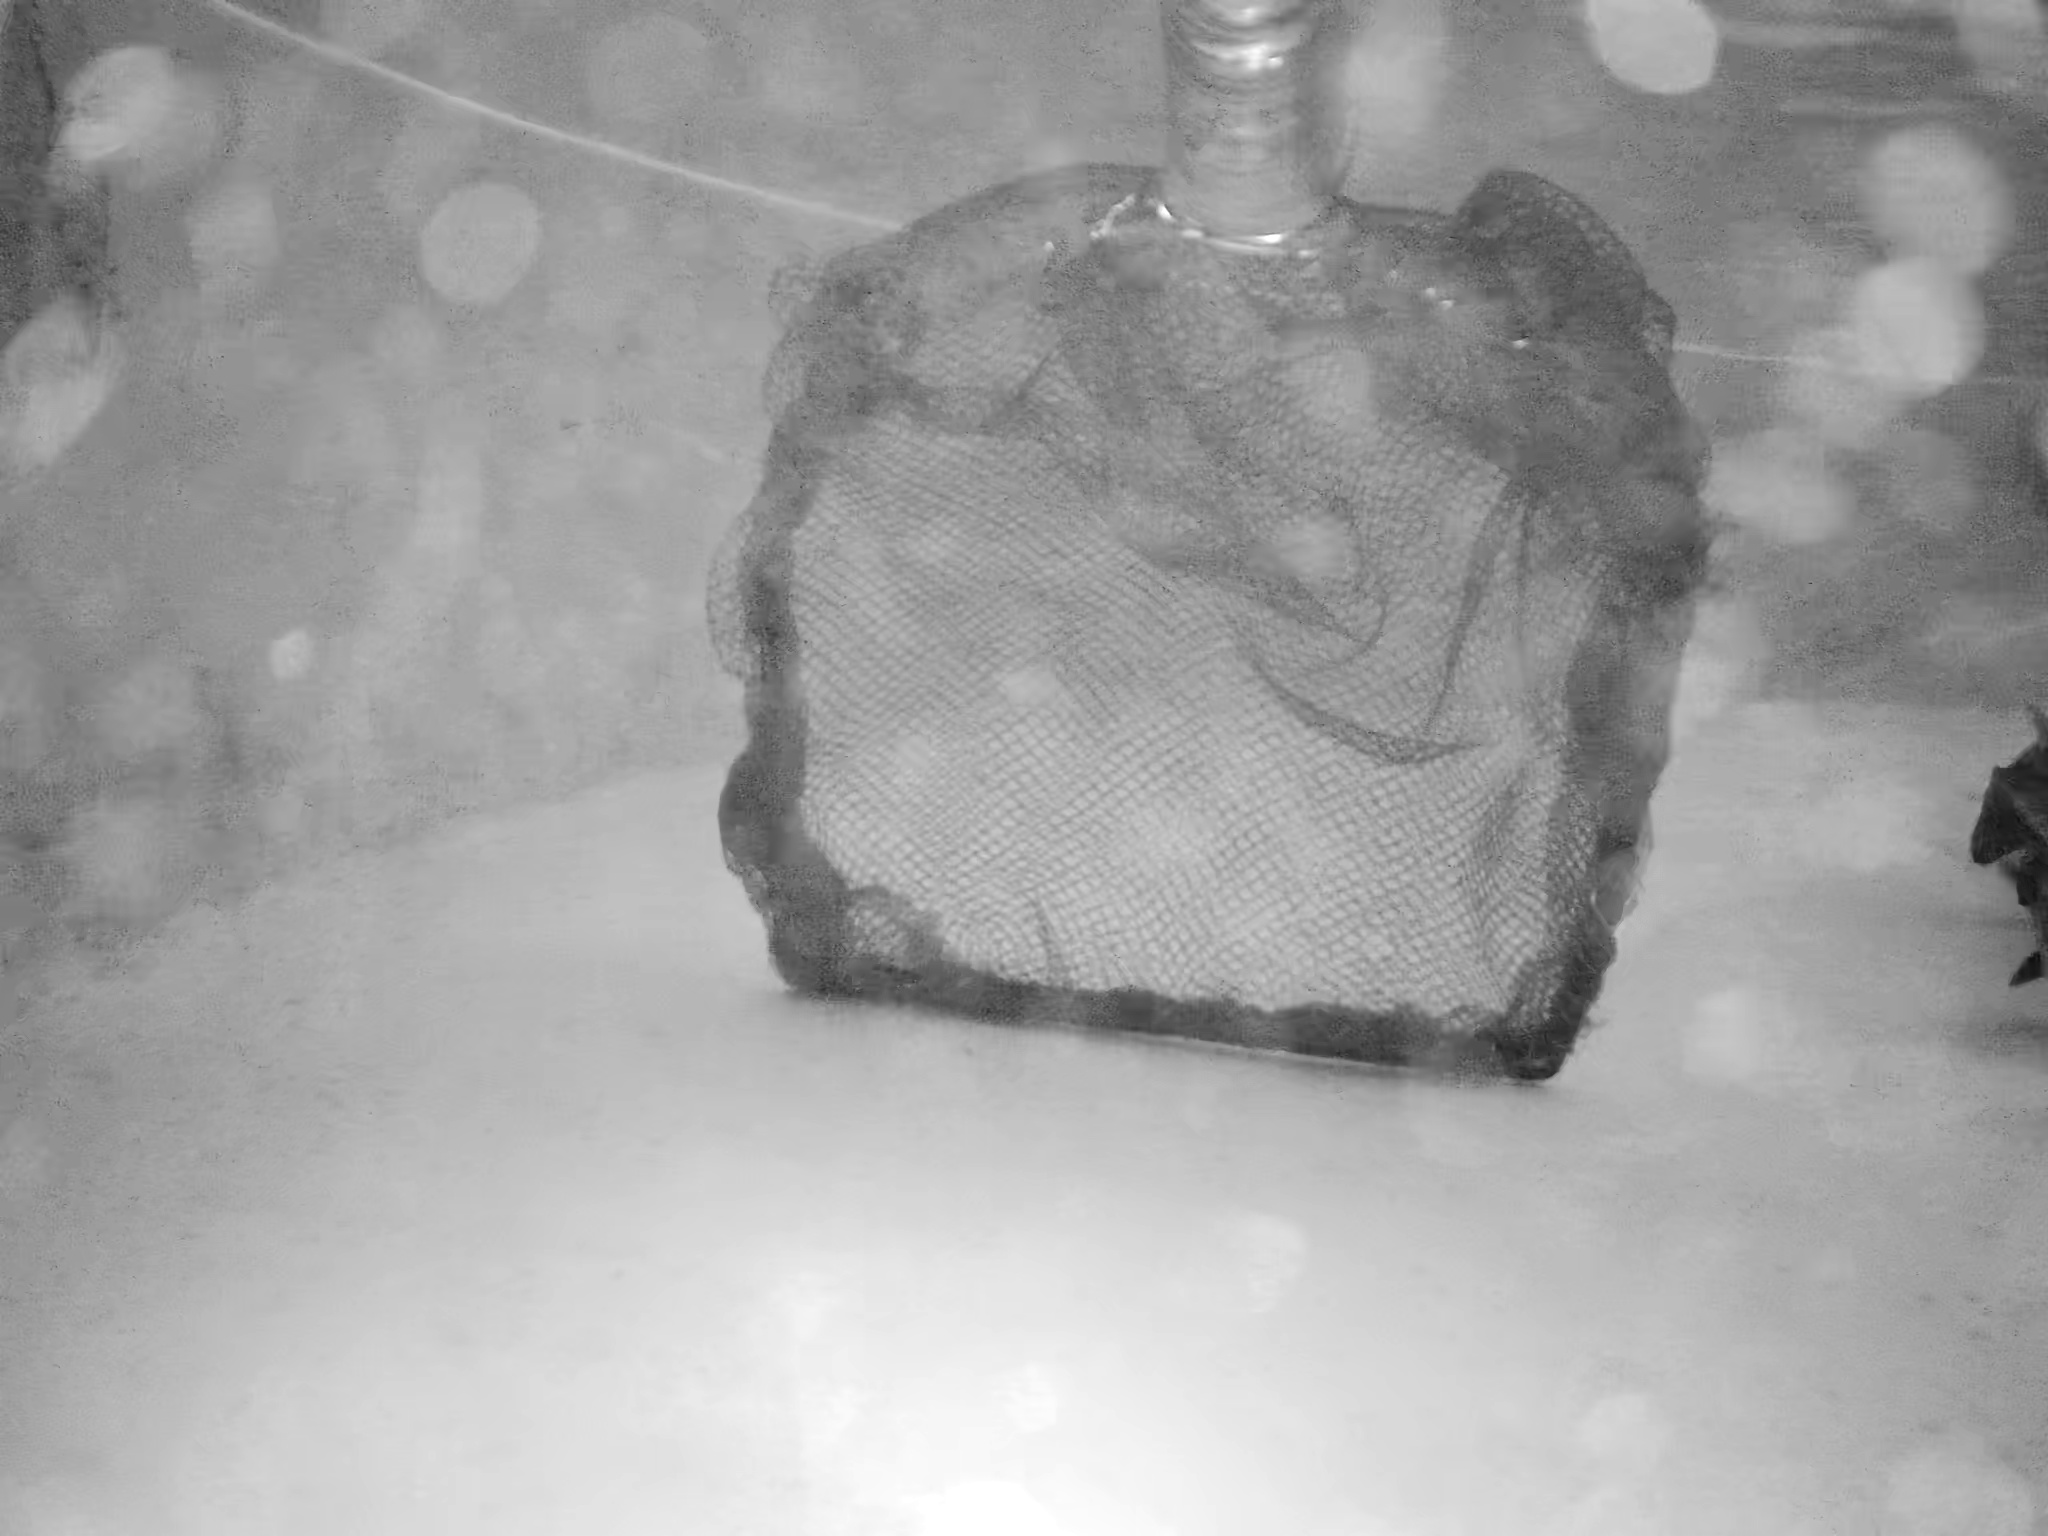fish: (1971, 716, 2048, 945)
